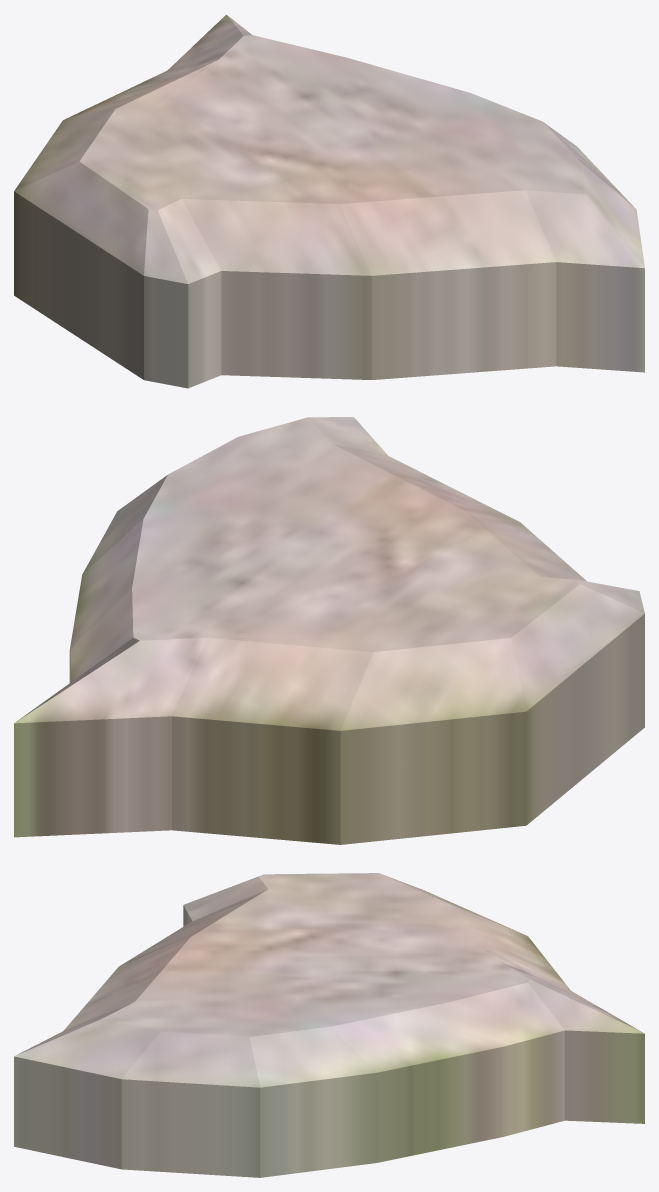
Rendered from stone.29.fbx.
The picture shows the model from 3 angles, top to bottom: view 1: azimuth 30°, elevation 25°; view 2: azimuth 150°, elevation 25°; view 3: azimuth 270°, elevation 25°; orthographic projection. The views are drawn at different scales.
Visible parts, largest first — view 1: stone.29; view 2: stone.29; view 3: stone.29.
Boxes of the visible parts, x1,y1,x2,y2 form: stone.29: (14, 14, 644, 388); stone.29: (14, 417, 644, 844); stone.29: (14, 873, 644, 1177).
Size of the model in its own units: 33.32 by 9.74 by 44.94.
Materials: 1 (1 with a texture image).
